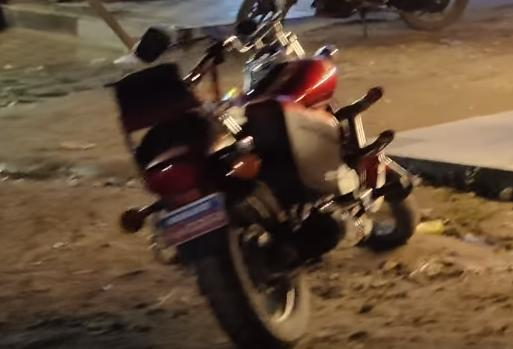bike: (115, 0, 421, 349)
